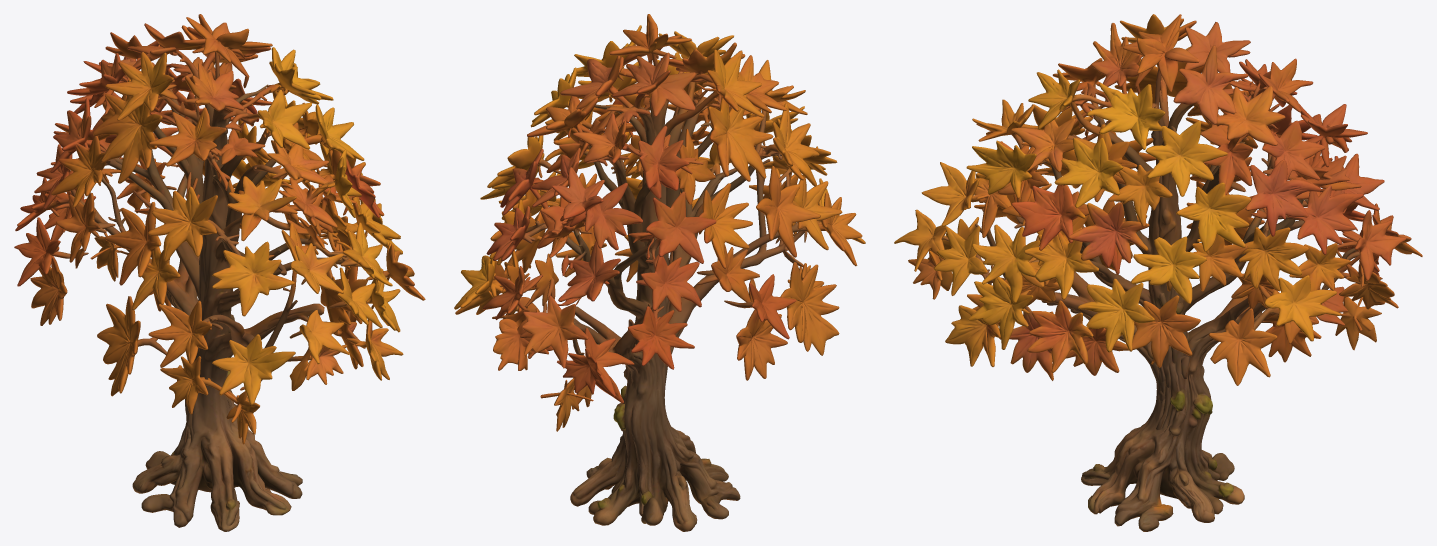
File: raw.glb
3 views of the same model, side by side, from view 1: azimuth 30°, elevation 25°; view 2: azimuth 150°, elevation 25°; view 3: azimuth 270°, elevation 25° (orthographic).
Parts seen in each view (by area): view 1: tripo_node_6eba8b70-fb02-4f00-b709-a1915a9fc22c; view 2: tripo_node_6eba8b70-fb02-4f00-b709-a1915a9fc22c; view 3: tripo_node_6eba8b70-fb02-4f00-b709-a1915a9fc22c.
Part boxes in pixels (left/top/right/bottom): tripo_node_6eba8b70-fb02-4f00-b709-a1915a9fc22c: left=14, top=14, right=425, bottom=531; tripo_node_6eba8b70-fb02-4f00-b709-a1915a9fc22c: left=454, top=14, right=865, bottom=531; tripo_node_6eba8b70-fb02-4f00-b709-a1915a9fc22c: left=894, top=14, right=1422, bottom=531.
Size of the model in its own units: 0.7114 by 0.9733 by 0.9841.
1 material, 1 textured.
